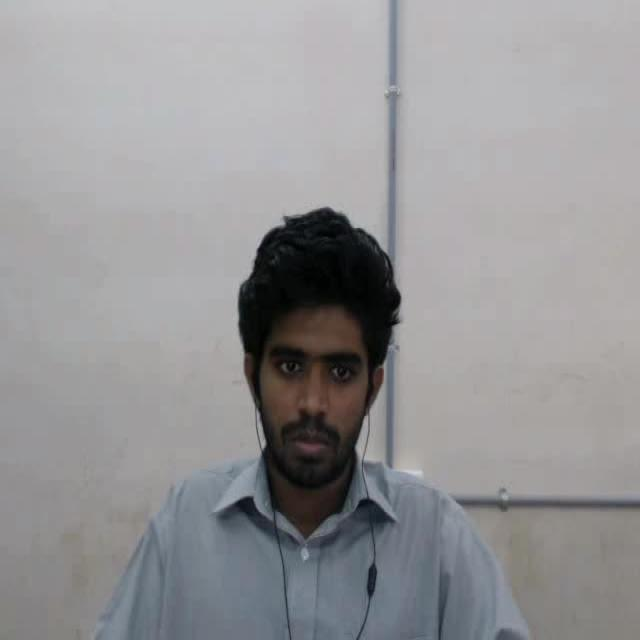Engaged: (208, 187, 406, 517)
